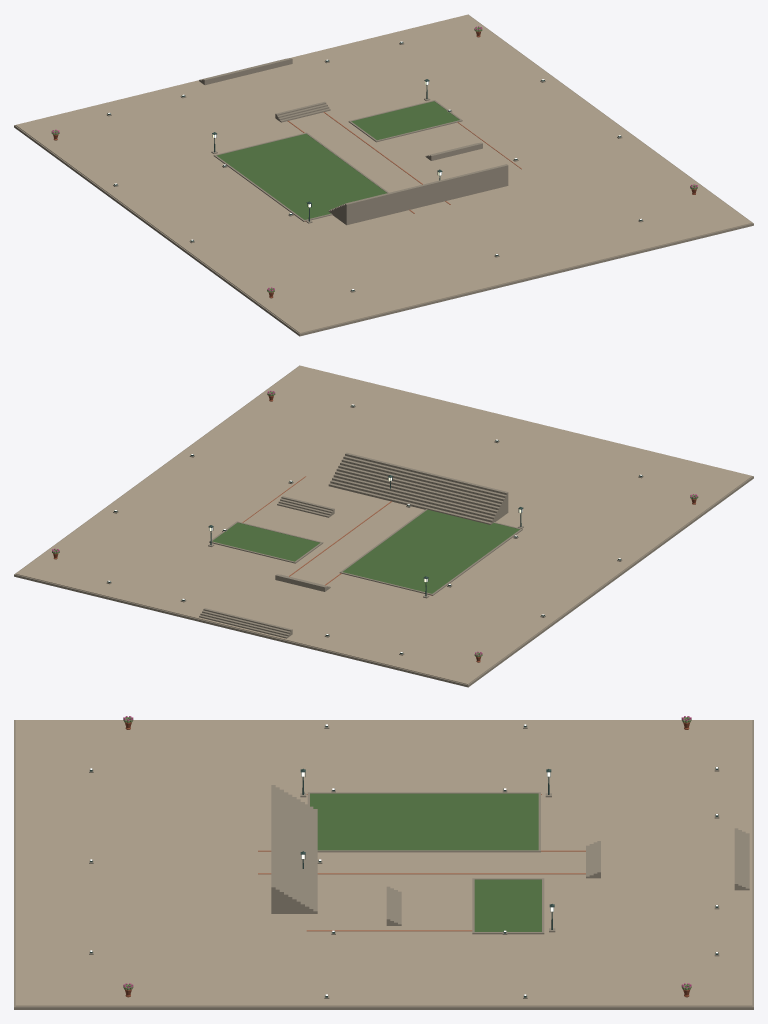
File: KOL_T1_RAJBARI__00_Grounds.fbx
3 renders of one model, top to bottom at view 1: azimuth 30°, elevation 25°; view 2: azimuth 150°, elevation 25°; view 3: azimuth 270°, elevation 25°, orthographic. The views are drawn at different scales.
Visible parts, largest first — view 1: KOL_T1_RAJBARI__00_Grounds__KOL_T1_EstatePaving, KOL_T1_RAJBARI__00_Grounds__KOL_T1_EstateStone, KOL_T1_RAJBARI__00_Grounds__KOL_T1_EstateLawn; view 2: KOL_T1_RAJBARI__00_Grounds__KOL_T1_EstatePaving, KOL_T1_RAJBARI__00_Grounds__KOL_T1_EstateStone, KOL_T1_RAJBARI__00_Grounds__KOL_T1_EstateLawn; view 3: KOL_T1_RAJBARI__00_Grounds__KOL_T1_EstatePaving, KOL_T1_RAJBARI__00_Grounds__KOL_T1_EstateLawn, KOL_T1_RAJBARI__00_Grounds__KOL_T1_EstateStone, KOL_T1_RAJBARI__00_Grounds__KOL_T1_EstateBrickLight.
Boxes of the visible parts, x1=… form: KOL_T1_RAJBARI__00_Grounds__KOL_T1_EstatePaving: x1=15, y1=14, x2=751, y2=333; KOL_T1_RAJBARI__00_Grounds__KOL_T1_EstateStone: x1=14, y1=14, x2=753, y2=336; KOL_T1_RAJBARI__00_Grounds__KOL_T1_EstateLawn: x1=217, y1=101, x2=459, y2=219; KOL_T1_RAJBARI__00_Grounds__KOL_T1_EstatePaving: x1=16, y1=365, x2=752, y2=684; KOL_T1_RAJBARI__00_Grounds__KOL_T1_EstateStone: x1=14, y1=365, x2=753, y2=687; KOL_T1_RAJBARI__00_Grounds__KOL_T1_EstateLawn: x1=212, y1=509, x2=519, y2=593; KOL_T1_RAJBARI__00_Grounds__KOL_T1_EstatePaving: x1=15, y1=720, x2=752, y2=1006; KOL_T1_RAJBARI__00_Grounds__KOL_T1_EstateLawn: x1=310, y1=793, x2=541, y2=931; KOL_T1_RAJBARI__00_Grounds__KOL_T1_EstateStone: x1=14, y1=720, x2=753, y2=1009; KOL_T1_RAJBARI__00_Grounds__KOL_T1_EstateBrickLight: x1=258, y1=794, x2=585, y2=931.
Size of the model in its own units: 202 by 10.15 by 220.
